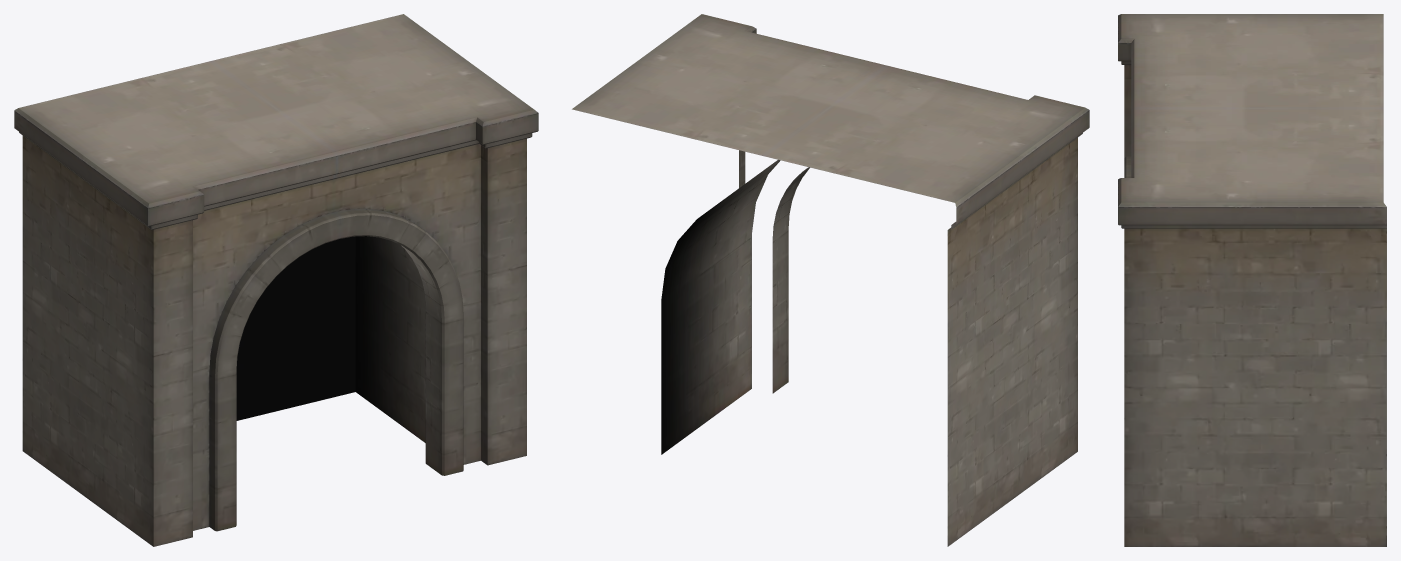
The picture shows the model from 3 angles, left to right: view 1: azimuth 30°, elevation 25°; view 2: azimuth 150°, elevation 25°; view 3: azimuth 270°, elevation 25°; orthographic projection.
Parts seen in each view (by area): view 1: body0_model0_lod0_mesh0; view 2: body0_model0_lod0_mesh0; view 3: body0_model0_lod0_mesh0.
Part boxes in pixels (bbox=[...]): body0_model0_lod0_mesh0: bbox=[14, 14, 538, 546]; body0_model0_lod0_mesh0: bbox=[572, 14, 1089, 546]; body0_model0_lod0_mesh0: bbox=[1118, 14, 1386, 546].
Size of the model in its own units: 466 by 394 by 277.
Materials: 1 (1 with a texture image).
